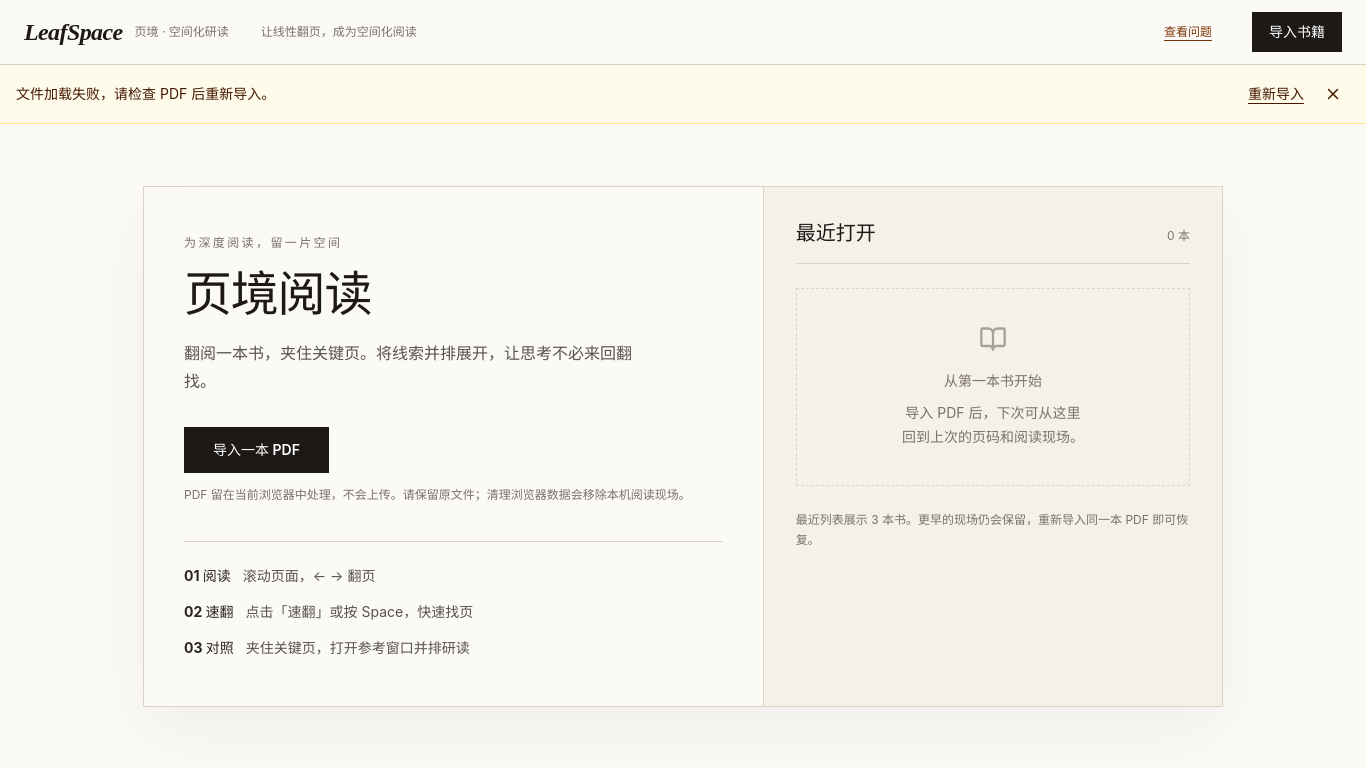
Test case: App document workflows › keeps a PDF loading error reachable even when there is no workspace error
The image size is (1366, 768).
Click the button named "关闭提示" at (1333, 94), box x1=1316 y1=77 x2=1350 y2=111
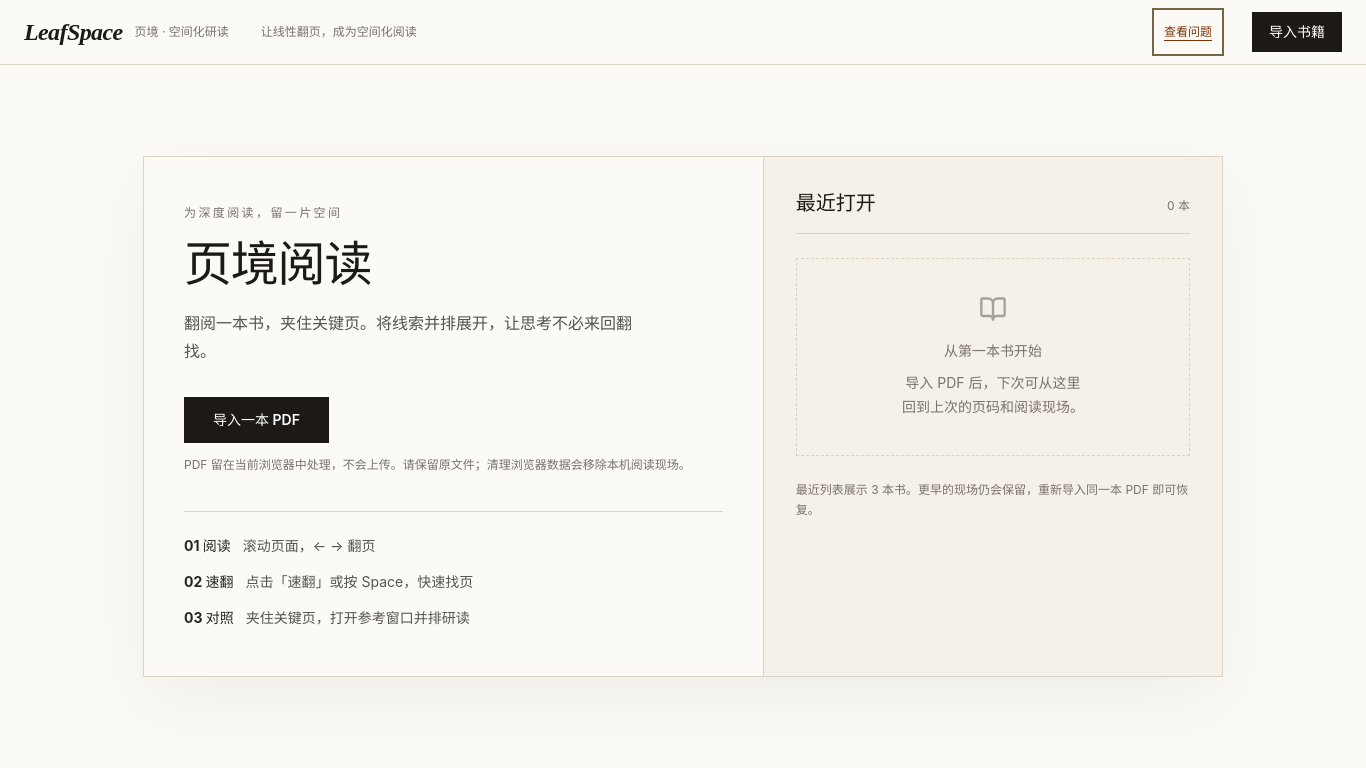
Click the button "查看问题" at (1188, 32), box x1=1156 y1=12 x2=1220 y2=52
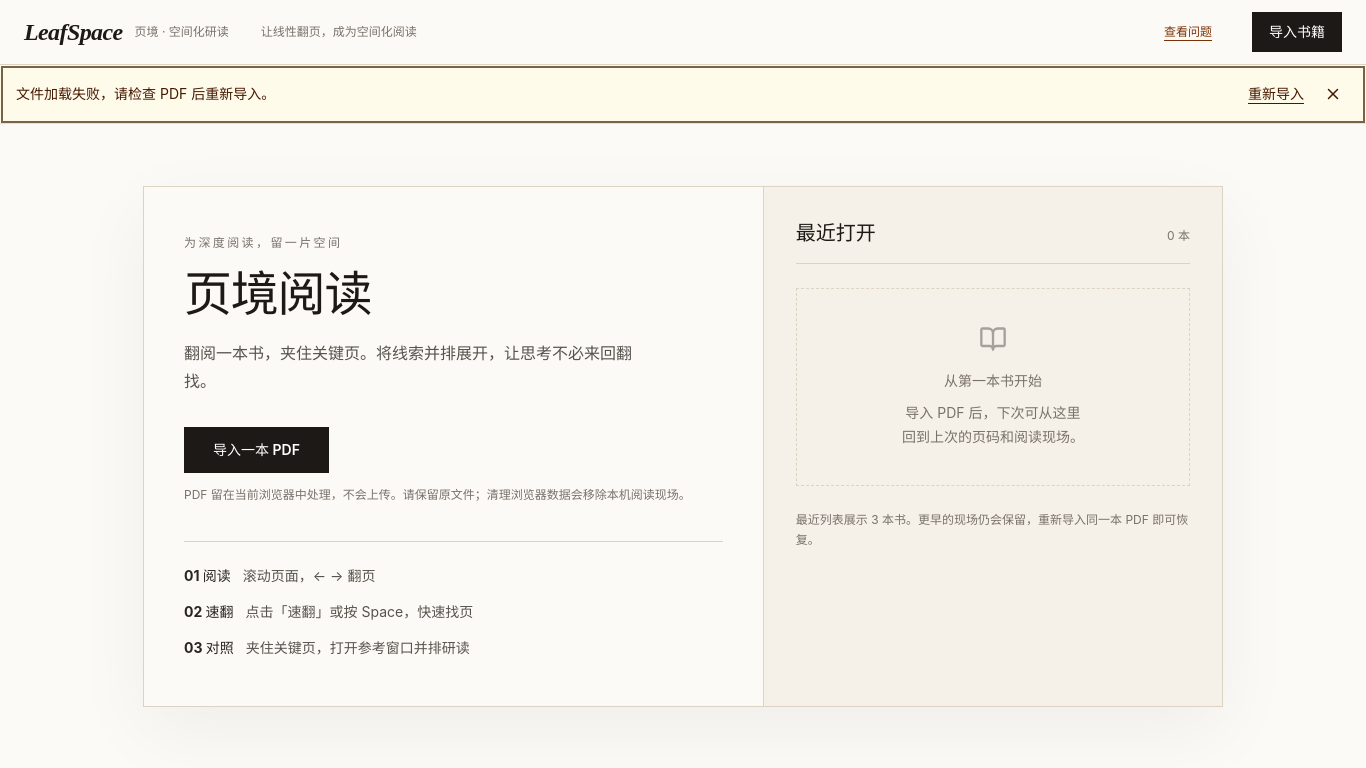
Expected: the button "重新导入" is enabled, x1=1248 y1=84 x2=1304 y2=104
